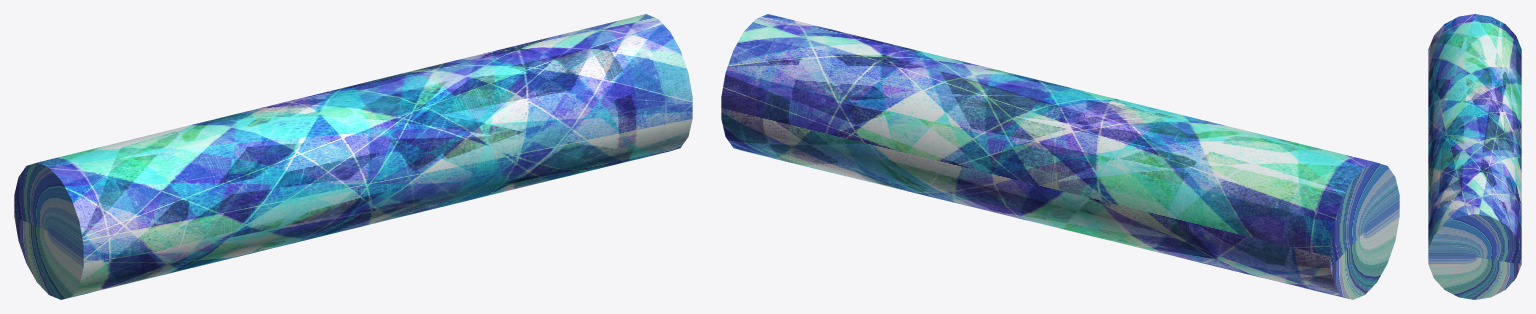
The model's file is magma.fbx.
The picture shows the model from 3 angles, left to right: view 1: azimuth 30°, elevation 25°; view 2: azimuth 150°, elevation 25°; view 3: azimuth 270°, elevation 25°; orthographic projection. The views are drawn at different scales.
Visible parts, largest first — view 1: Cylinder001; view 2: Cylinder001; view 3: Cylinder001.
Part boxes in pixels (bbox=[...]): Cylinder001: bbox=[14, 14, 692, 299]; Cylinder001: bbox=[721, 14, 1399, 299]; Cylinder001: bbox=[1428, 14, 1521, 299].
Size of the model in its own units: 2000 by 394 by 400.
1 material, 1 textured.
